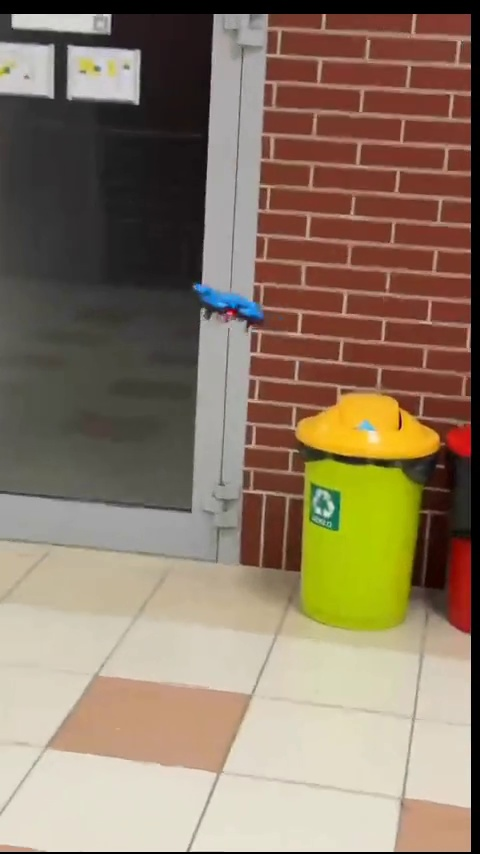drone: (190, 282, 265, 328)
